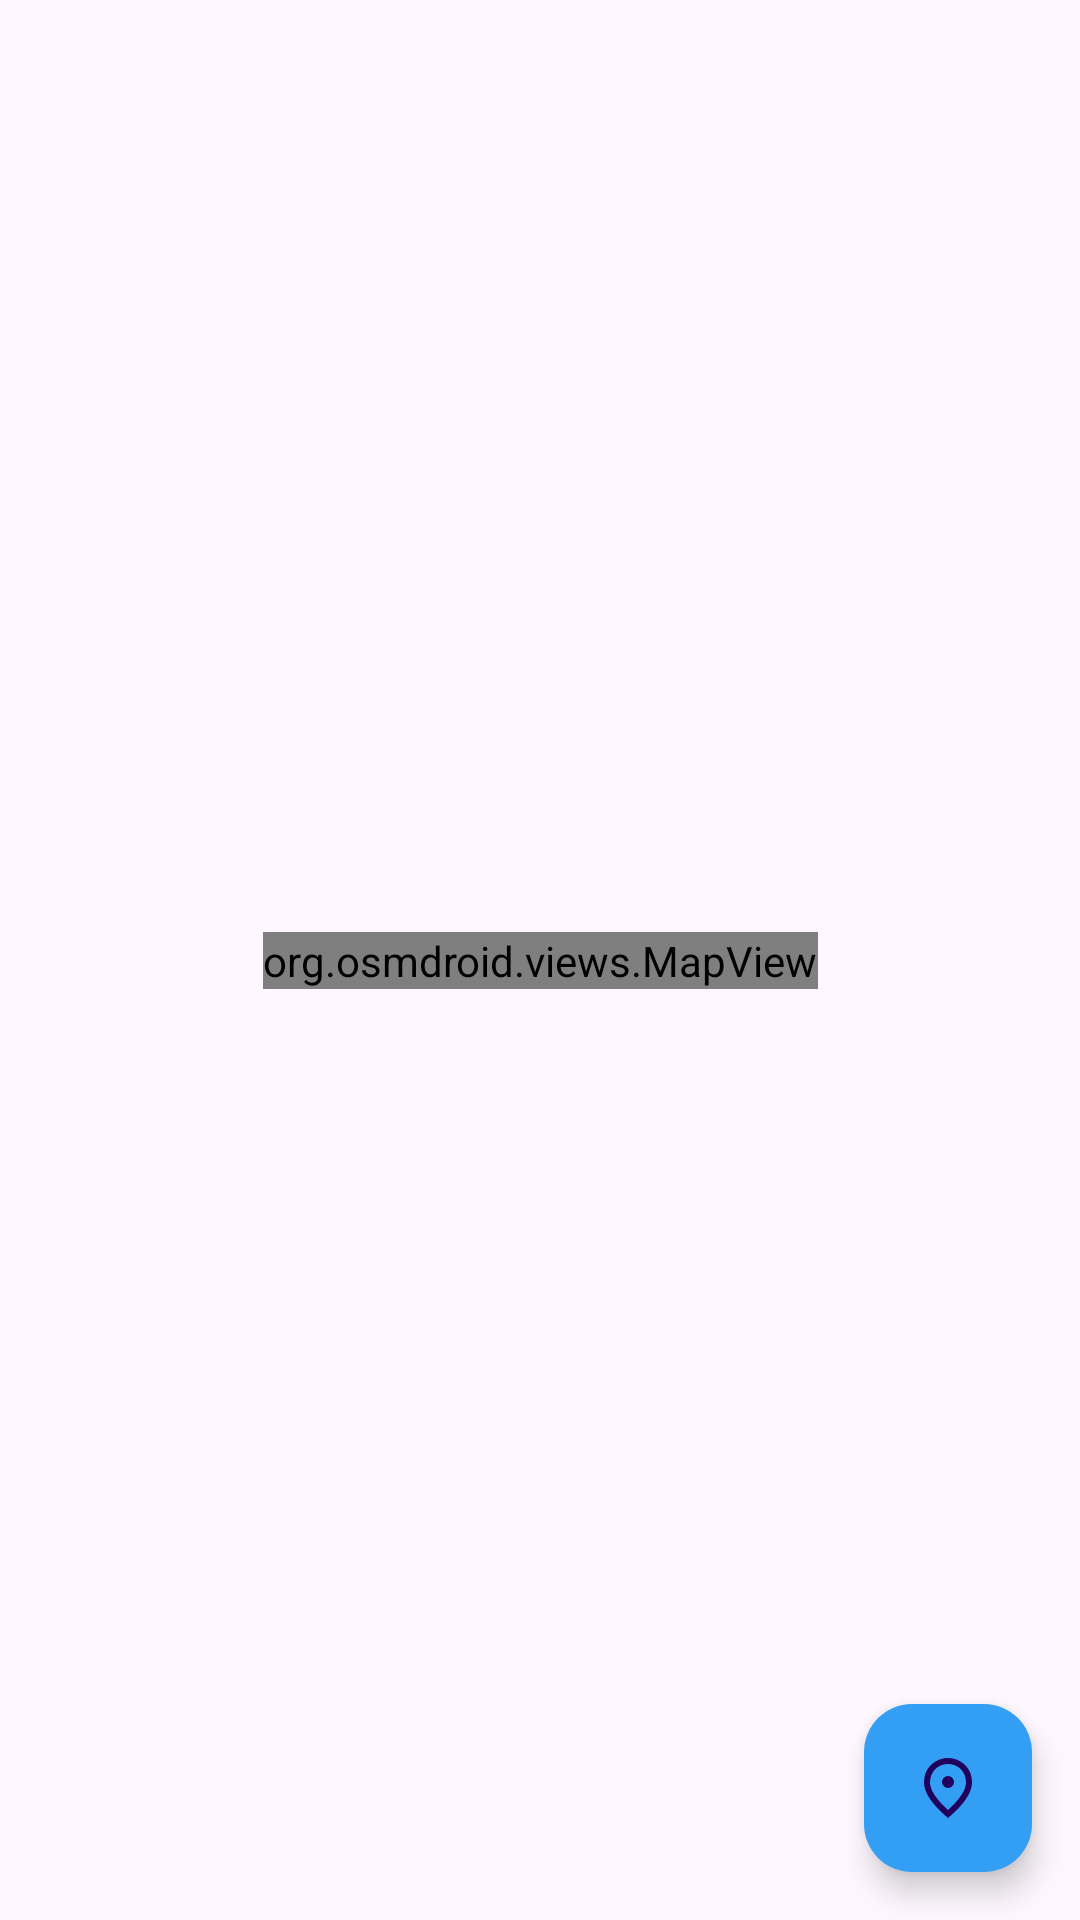

Icons on this 1080×1920 Android screen, each with its box as box=[x1, y1, x2, y2]:
location pin: box=[864, 1704, 1032, 1872]
